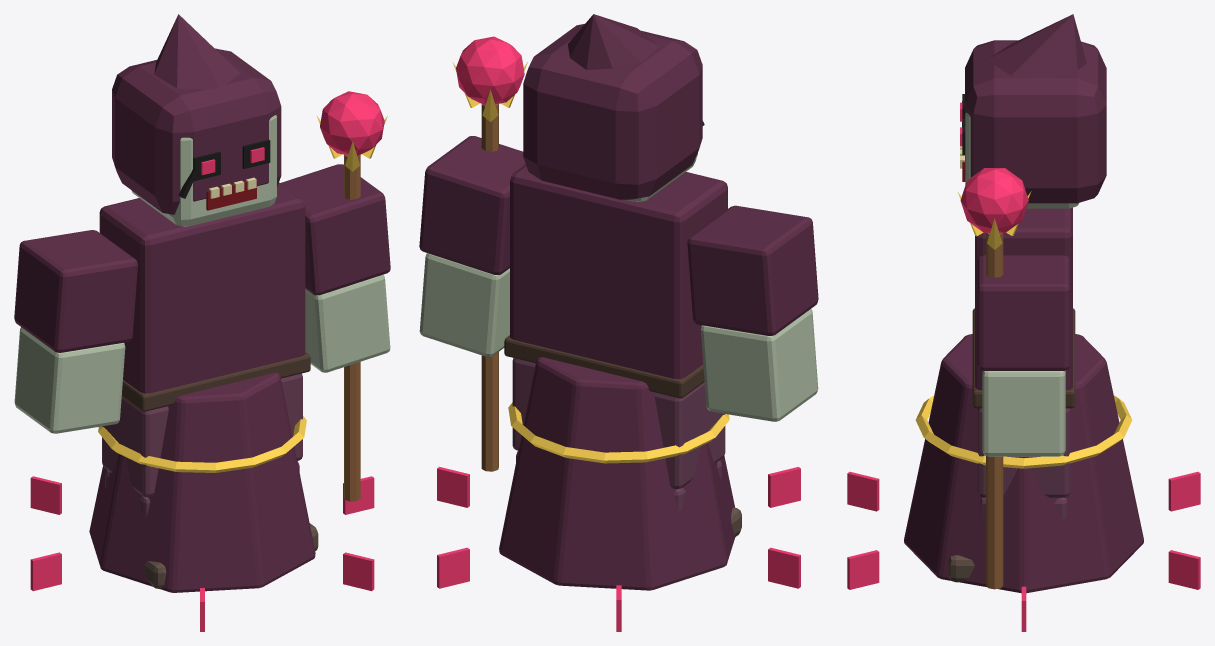
The model's file is zombi_invocador.glb.
The picture shows the model from 3 angles, left to right: view 1: azimuth 30°, elevation 25°; view 2: azimuth 150°, elevation 25°; view 3: azimuth 270°, elevation 25°; orthographic projection. The views are drawn at different scales.
Parts seen in each view (by area): view 1: Torso, Head, RightArm, LeftArm, Cube.017, Cube.020; view 2: Torso, Head, RightArm, LeftArm, Cube.017, Cube.020; view 3: Torso, RightArm, Head, Cube.020, Cube.022.
Boxes of the visible parts, x1,y1,x2,y2 form: Torso: [30, 182, 374, 631]; Head: [112, 14, 281, 226]; RightArm: [280, 91, 390, 501]; LeftArm: [14, 230, 137, 433]; Cube.017: [102, 396, 168, 497]; Cube.020: [281, 373, 302, 460]; Torso: [437, 164, 800, 631]; Head: [523, 14, 704, 201]; RightArm: [419, 36, 527, 471]; LeftArm: [687, 205, 818, 421]; Cube.017: [654, 382, 725, 488]; Cube.020: [512, 358, 535, 450]; Torso: [847, 207, 1200, 631]; RightArm: [958, 168, 1070, 589]; Head: [960, 14, 1106, 208]; Cube.020: [977, 408, 1070, 497]; Cube.022: [948, 555, 974, 582].
Bounding box in the file's own units: 4.16 × 6.01 × 3.62.
3 materials, 1 textured.
